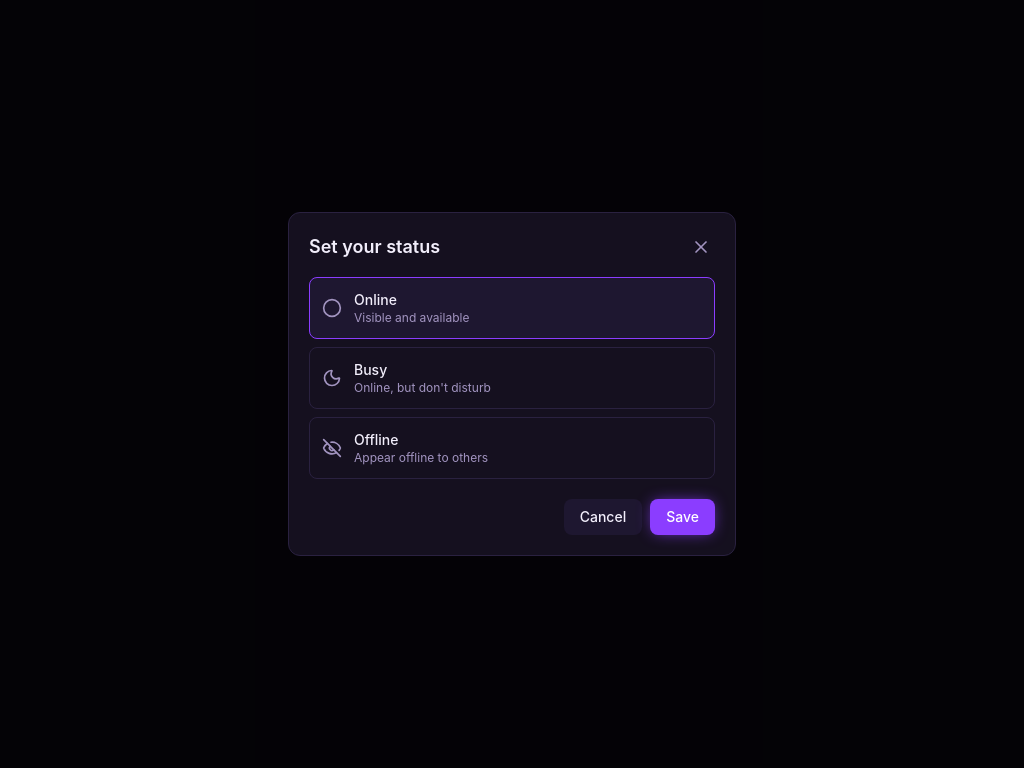
Test: StatusModal › shows the backend error message when the update fails
This screenshot has width=1024, height=768.
Click the button "Save" at point(683, 517), box [650,499,715,535]
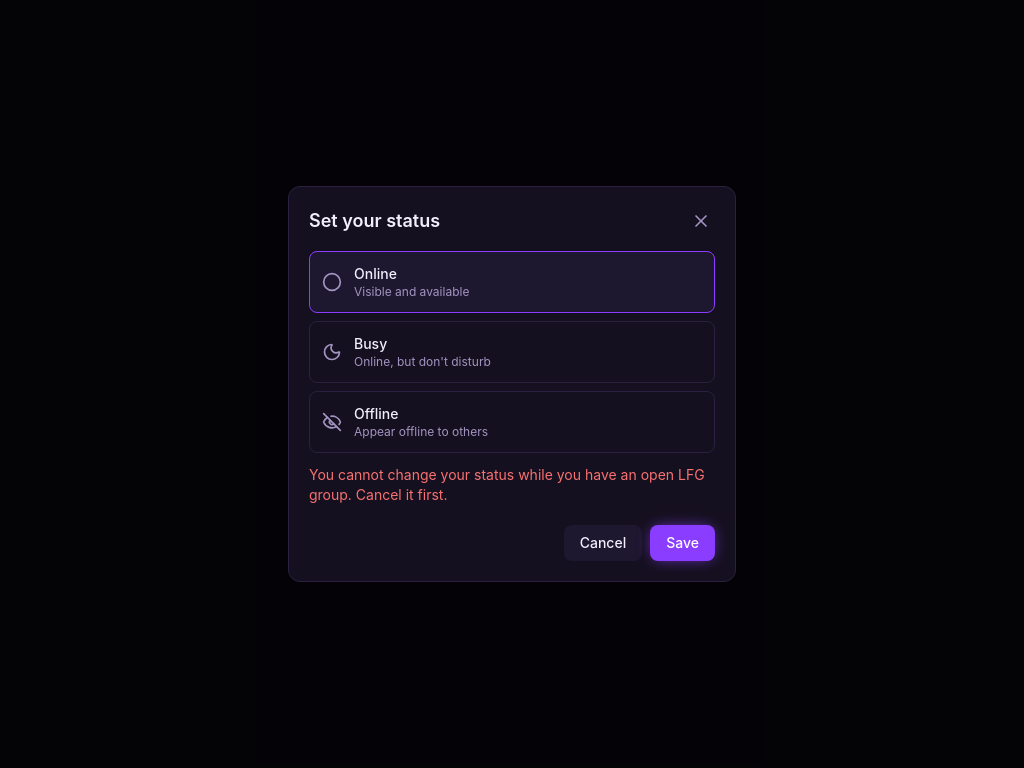
Now the text "You cannot change your status while you have an open LFG group. Cancel it first." is shown, box [309,465,715,505]
